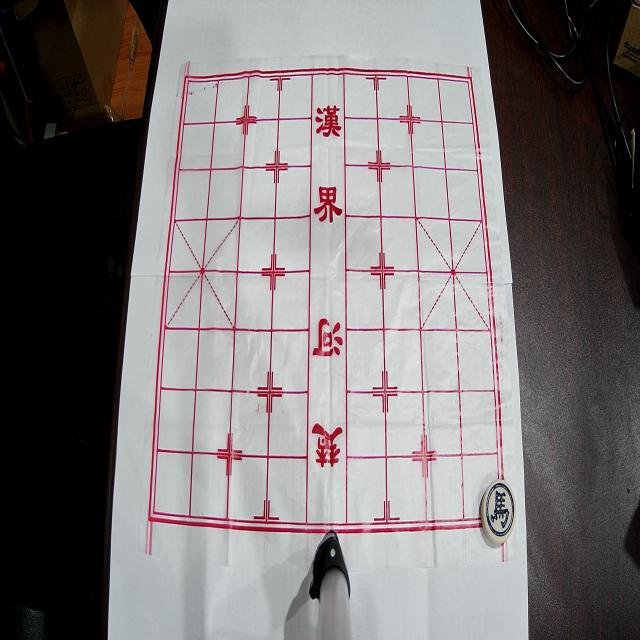black-horse: (481, 479, 516, 545)
